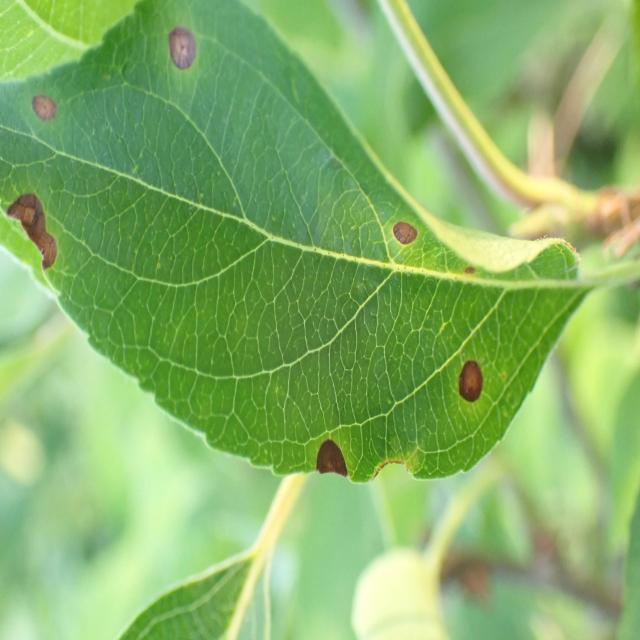Black Rot: (4, 179, 90, 291), (155, 0, 205, 98), (307, 420, 354, 502), (18, 83, 76, 142), (370, 452, 427, 502), (380, 191, 423, 256), (453, 338, 487, 411), (461, 249, 483, 291)
